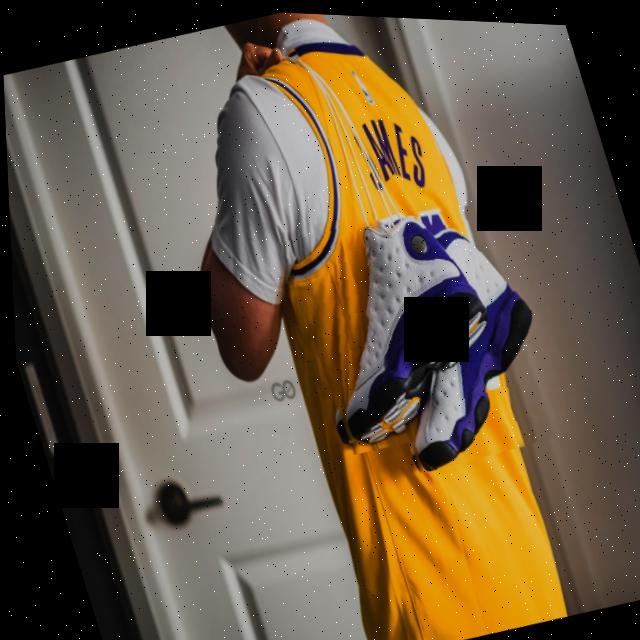shoe: (336, 187, 573, 476), (269, 187, 505, 460)
